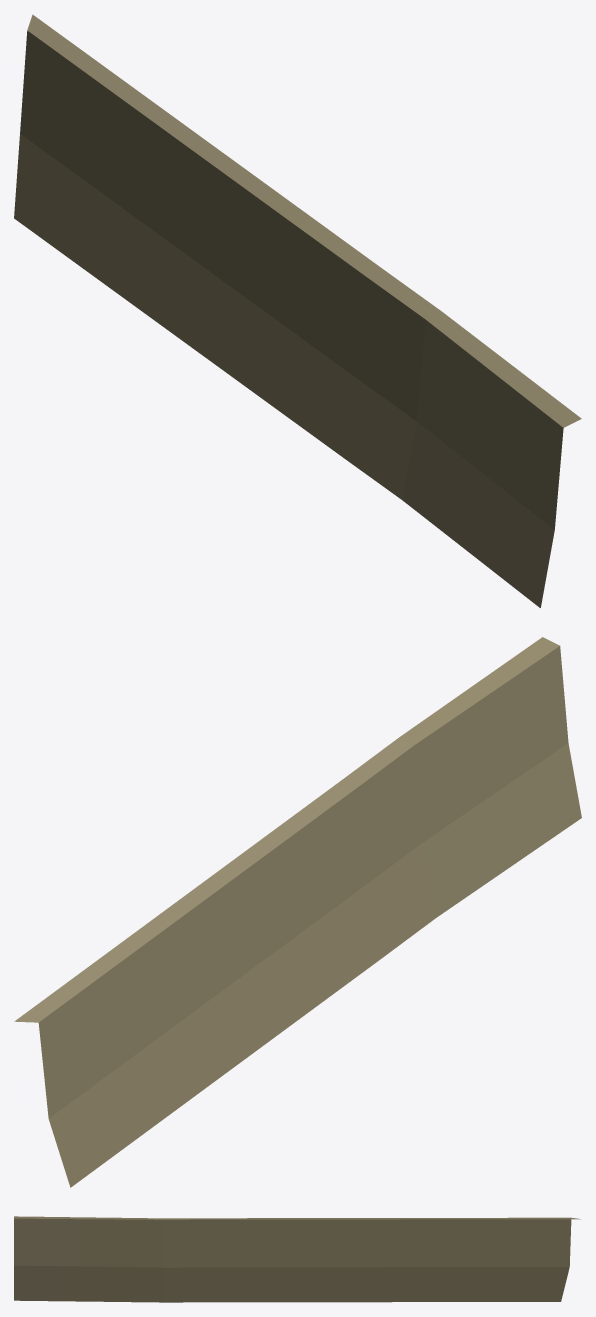
File: yantekne.fbx
3 views of the same model, one above another, from view 1: azimuth 30°, elevation 25°; view 2: azimuth 150°, elevation 25°; view 3: azimuth 270°, elevation 25° (orthographic). The views are drawn at different scales.
Visible parts, largest first — view 1: Vert.001; view 2: Vert.001; view 3: Vert.001.
Boxes of the visible parts, x1,y1,x2,y2 form: Vert.001: (14, 14, 581, 607); Vert.001: (14, 637, 581, 1187); Vert.001: (14, 1216, 580, 1302).
Bounding box in the file's own units: 51.61 × 192 × 1066.
